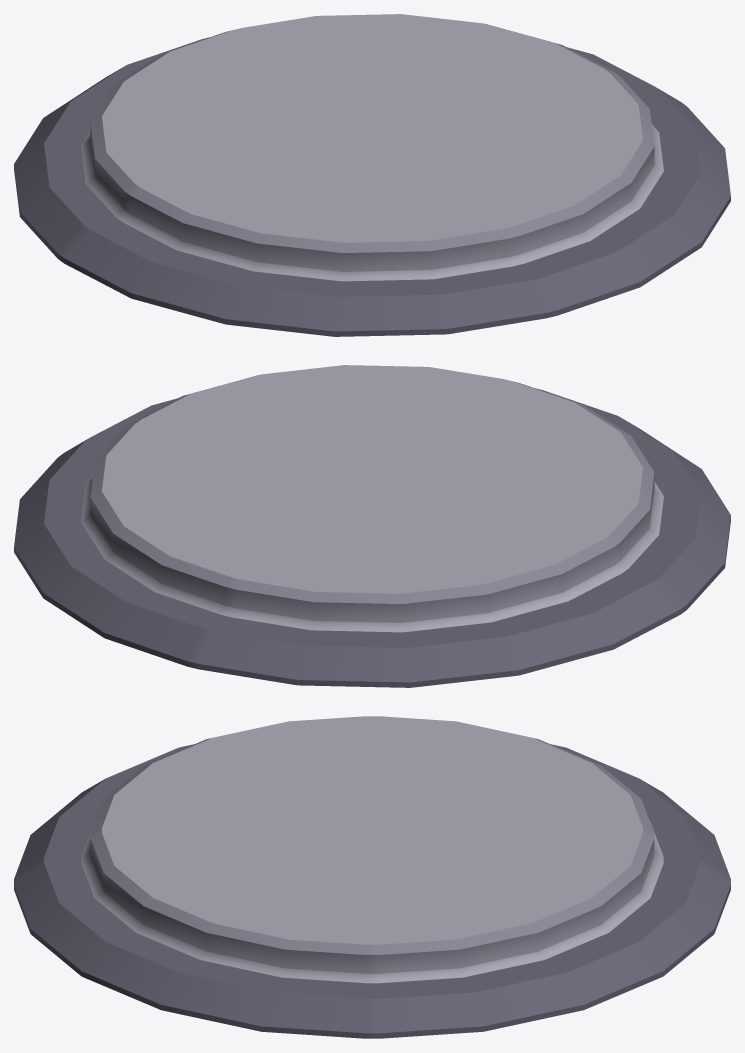
File: Podium.fbx
3 views of the same model, one above another, from view 1: azimuth 30°, elevation 25°; view 2: azimuth 150°, elevation 25°; view 3: azimuth 270°, elevation 25° (orthographic).
Visible parts, largest first — view 1: Podium; view 2: Podium; view 3: Podium.
Boxes of the visible parts, x1,y1,x2,y2 form: Podium: (14, 14, 730, 336); Podium: (14, 365, 730, 687); Podium: (14, 716, 730, 1038).
Size of the model in its own units: 627 by 54.85 by 627.
1 material, 1 textured.
